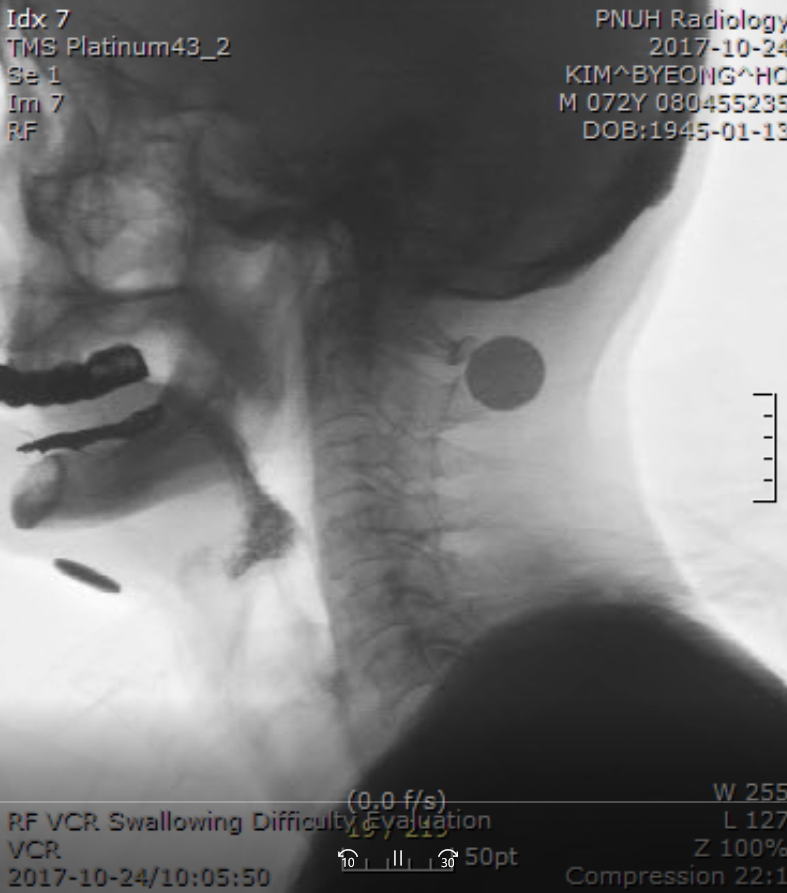dros: (288, 558, 339, 636)
food: (215, 445, 307, 585)
uros: (221, 487, 280, 574)
